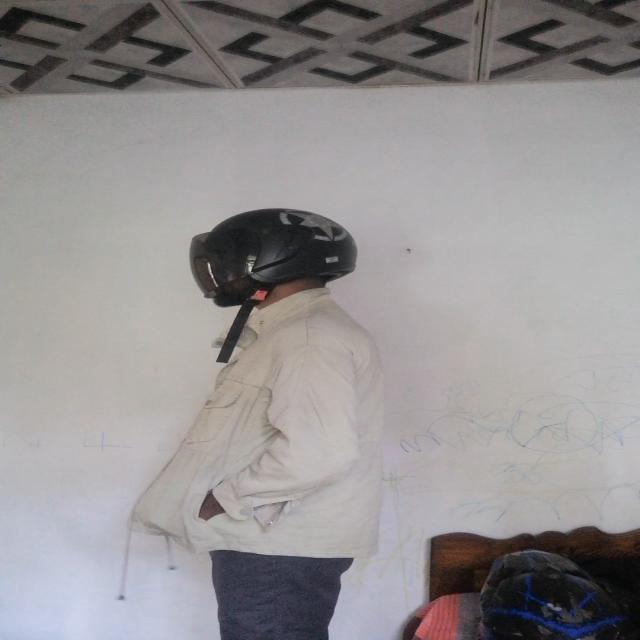Helmet_Wearer: (180, 200, 380, 315)
Jacket_Wearer: (151, 289, 418, 591)
Person: (105, 206, 398, 640)
